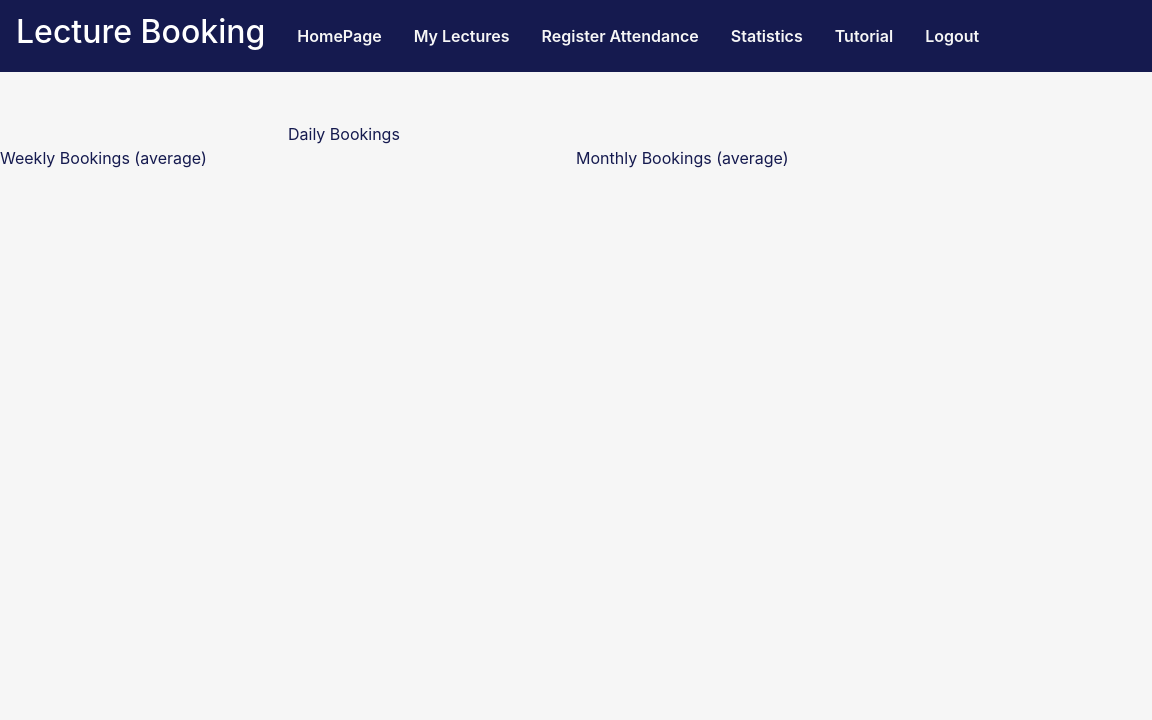
Test: Check Tutorial
This screenshot has width=1152, height=720.
What coordinates should you click on to do the following:
click the link "Tutorial"
I would click on:
 (864, 36)
Its box is left=835, top=26, right=893, bottom=46.
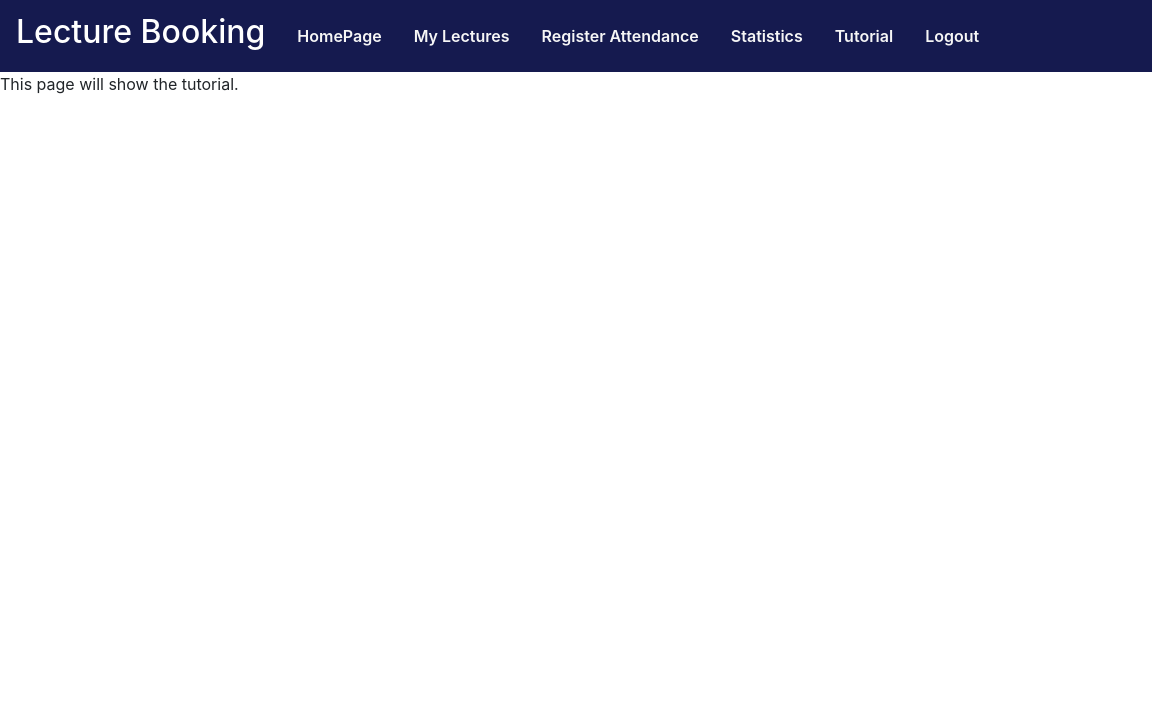
Now the text "This page will show the tutorial." is shown, box left=0, top=74, right=239, bottom=94
